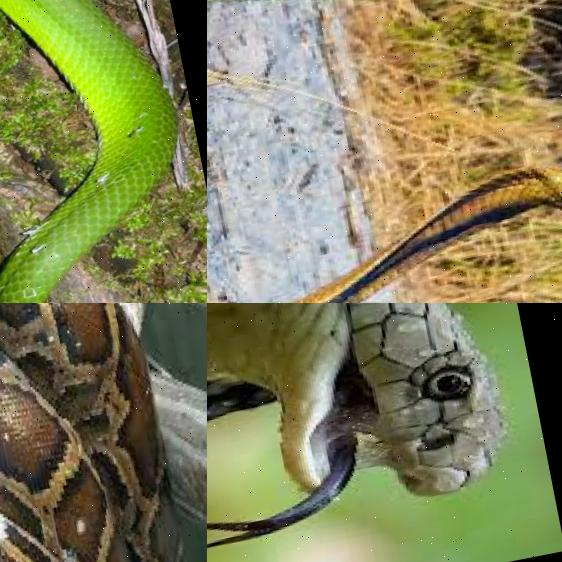1: (207, 0, 562, 303)
4: (0, 0, 207, 303)
5: (207, 303, 552, 562)
snake: (0, 303, 207, 562)
